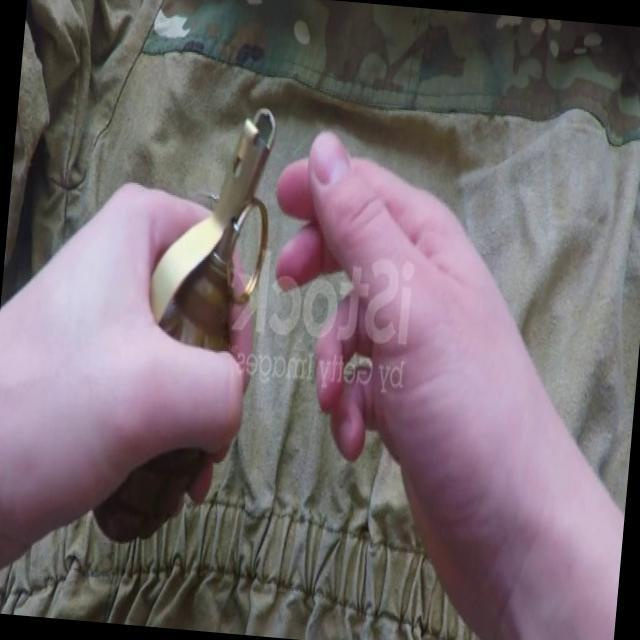grenade: (86, 98, 274, 554)
